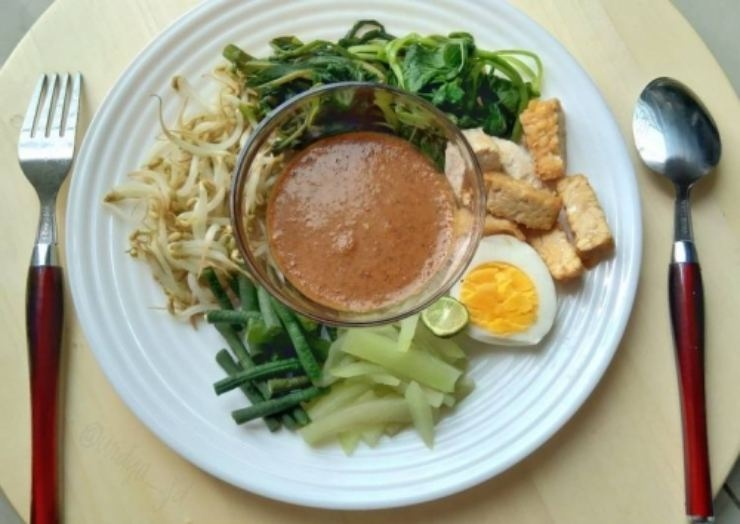pecel: (101, 22, 609, 468)
